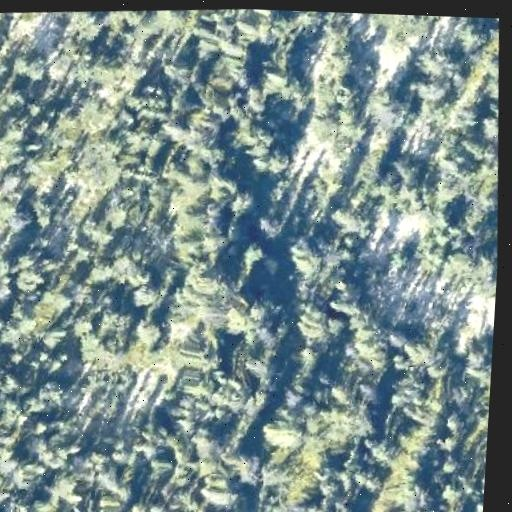tree-top: (233, 112, 297, 175), (312, 38, 368, 96), (255, 57, 311, 109), (286, 298, 341, 350), (407, 41, 459, 88), (198, 468, 252, 512), (280, 231, 328, 278), (178, 258, 224, 305), (261, 411, 309, 456), (408, 66, 454, 107), (370, 80, 411, 124), (249, 204, 292, 244), (451, 17, 492, 56), (199, 164, 243, 200), (9, 258, 46, 295), (463, 340, 493, 384), (130, 313, 166, 348), (11, 48, 48, 82), (26, 194, 60, 230), (81, 259, 118, 290), (388, 150, 420, 185), (400, 333, 431, 367), (34, 379, 64, 410), (128, 282, 160, 308), (240, 237, 267, 266), (479, 107, 500, 142), (440, 408, 466, 435), (438, 452, 464, 478), (436, 479, 464, 502), (159, 57, 186, 80), (2, 372, 25, 399), (3, 496, 35, 512), (0, 303, 8, 338), (0, 334, 4, 367)
